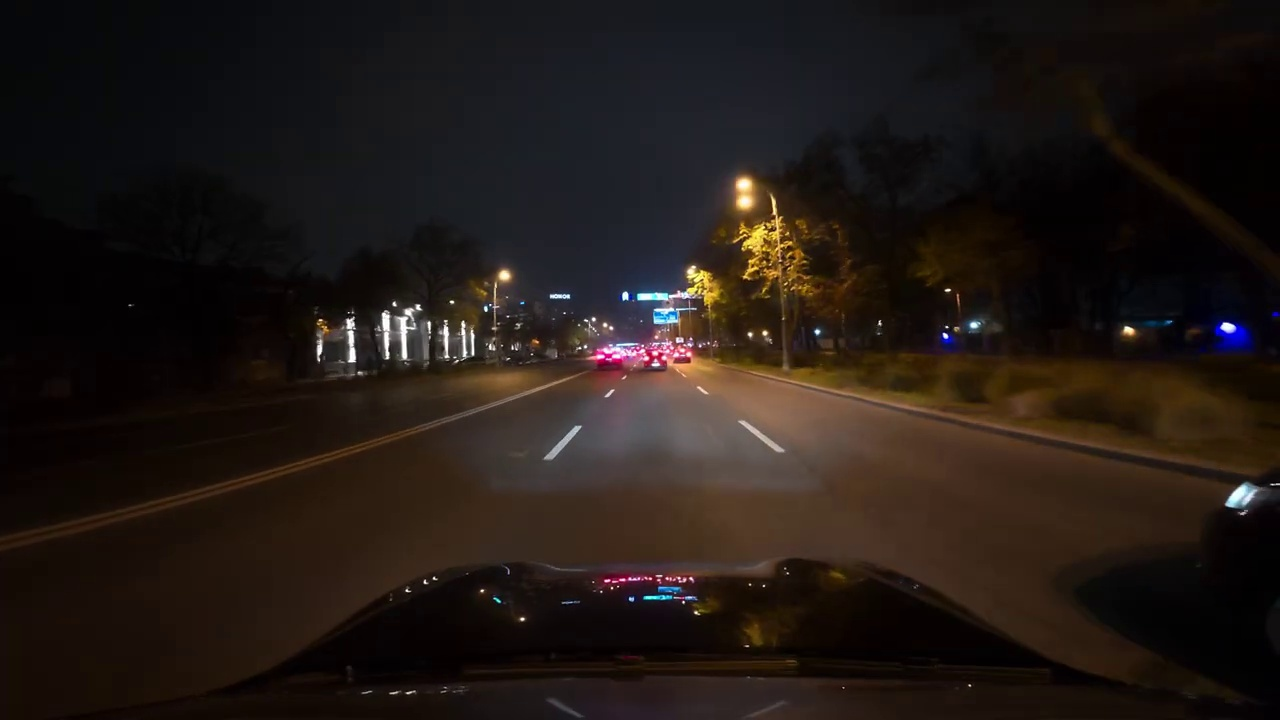acesa: (731, 176, 757, 211), (494, 266, 515, 286)
